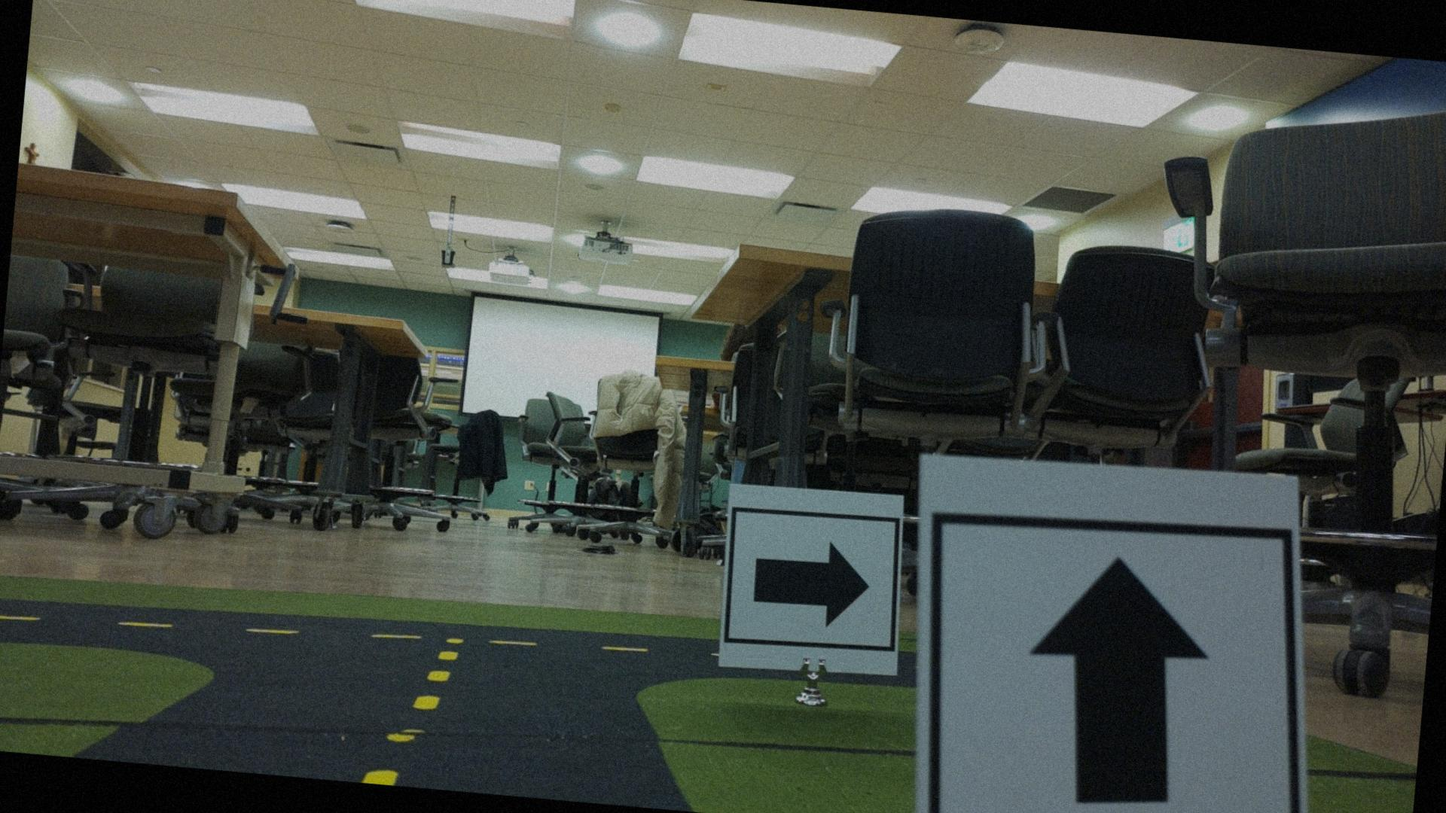gostraight: (916, 464, 1294, 812)
turnleft: (712, 486, 901, 681)
yellowline: (365, 642, 458, 787)
